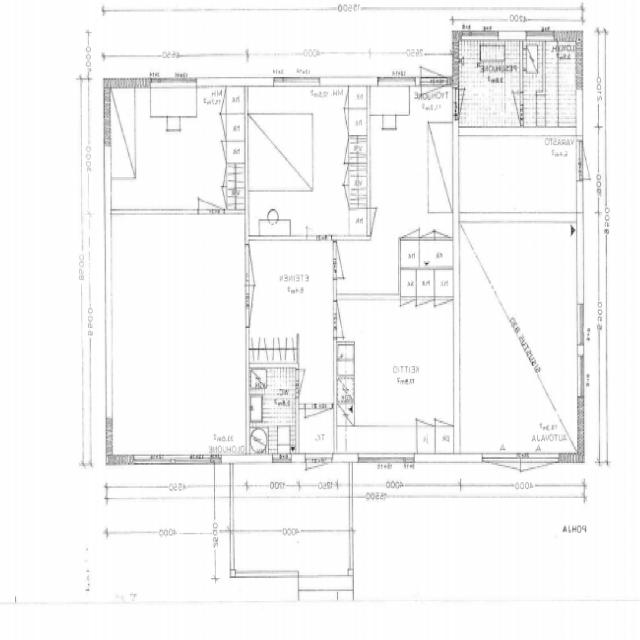door: (482, 453, 521, 521), (521, 453, 559, 521), (576, 140, 612, 181), (421, 75, 449, 127), (421, 35, 449, 86), (244, 244, 276, 286), (244, 286, 276, 326), (306, 453, 332, 502), (305, 402, 332, 448), (198, 171, 224, 214), (307, 198, 331, 240), (332, 301, 360, 337), (333, 243, 361, 279), (452, 88, 481, 120), (499, 93, 523, 123), (296, 370, 318, 398)
